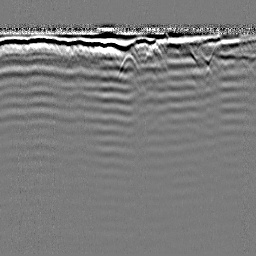cavity: (117, 50, 140, 75)
